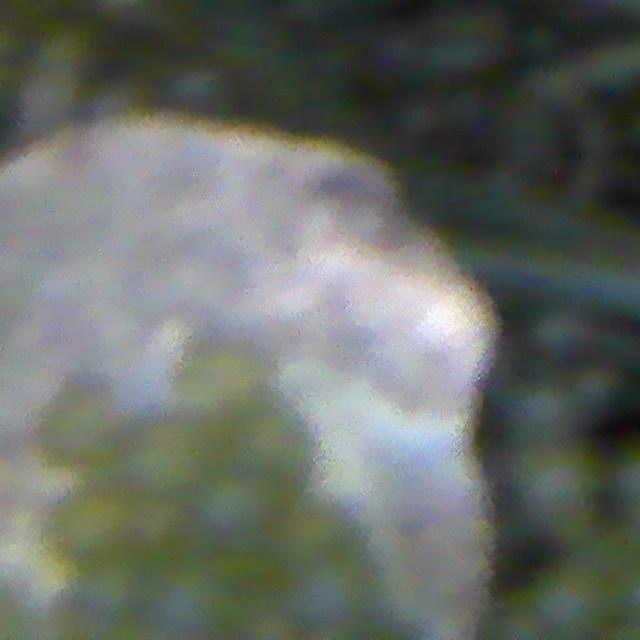SeaGrape: (40, 373, 121, 462), (515, 444, 598, 524), (53, 574, 151, 640), (150, 566, 235, 640), (52, 491, 131, 564), (299, 569, 383, 637), (123, 429, 202, 498), (197, 471, 271, 539)
